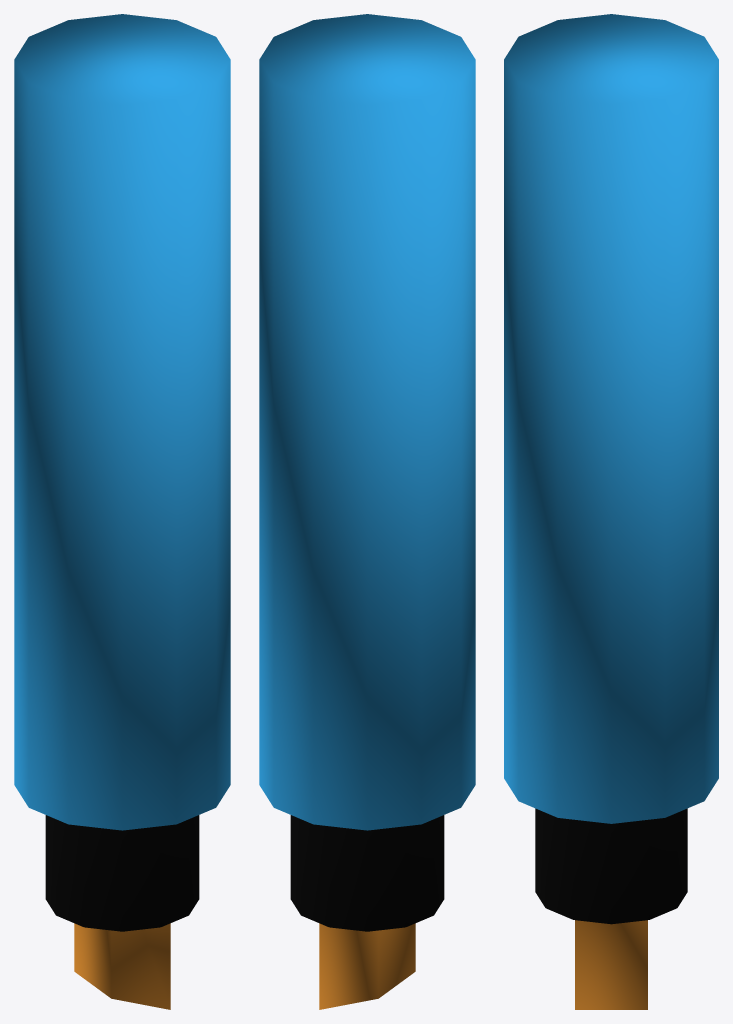
Rendered from pisak_bez_nakrętki.fbx.
3 renders of one model, left to right at view 1: azimuth 30°, elevation 25°; view 2: azimuth 150°, elevation 25°; view 3: azimuth 270°, elevation 25°, orthographic.
Visible parts, largest first — view 1: pisak_bez_nakrętki; view 2: pisak_bez_nakrętki; view 3: pisak_bez_nakrętki.
Boxes of the visible parts, bbox=[...] form: pisak_bez_nakrętki: bbox=[14, 14, 230, 1009]; pisak_bez_nakrętki: bbox=[259, 14, 475, 1009]; pisak_bez_nakrętki: bbox=[504, 14, 718, 1009].
Size of the model in its own units: 200 by 962 by 200.
